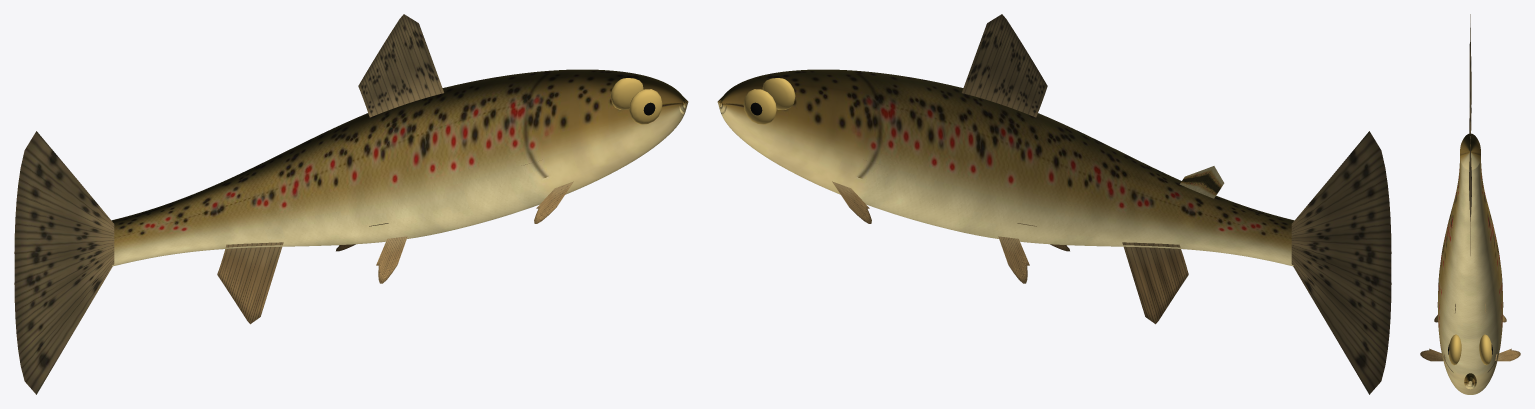
The model's file is fish_brown_trout.gltf.
3 renders of one model, left to right at view 1: azimuth 30°, elevation 25°; view 2: azimuth 150°, elevation 25°; view 3: azimuth 270°, elevation 25°, orthographic. The views are drawn at different scales.
Visible parts, largest first — view 1: fish_brown_trout; view 2: fish_brown_trout; view 3: fish_brown_trout.
Part boxes in pixels (x1=…): fish_brown_trout: x1=14, y1=14, x2=688, y2=394; fish_brown_trout: x1=717, y1=14, x2=1391, y2=394; fish_brown_trout: x1=1420, y1=14, x2=1520, y2=394.
Size of the model in its own units: 0.4195 by 0.1733 by 0.0659.
6 materials, 4 textured.
